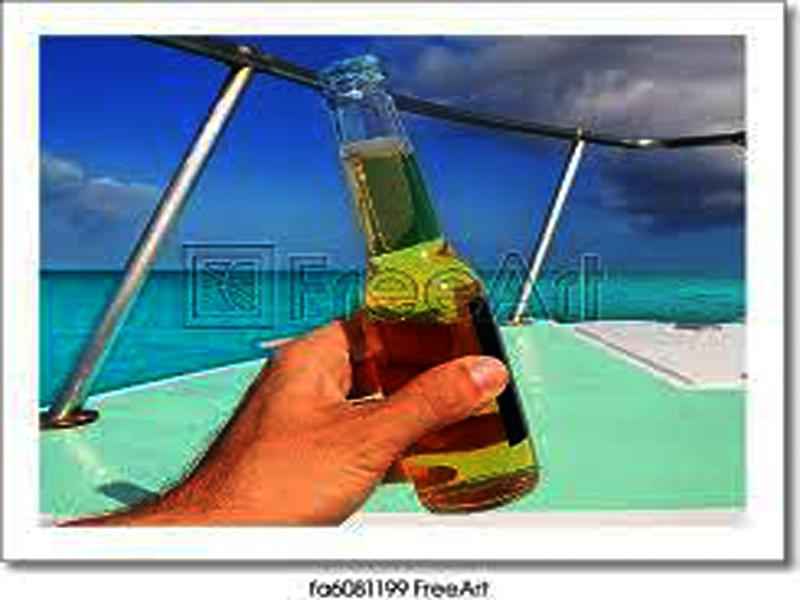Beer: (307, 58, 542, 507)
